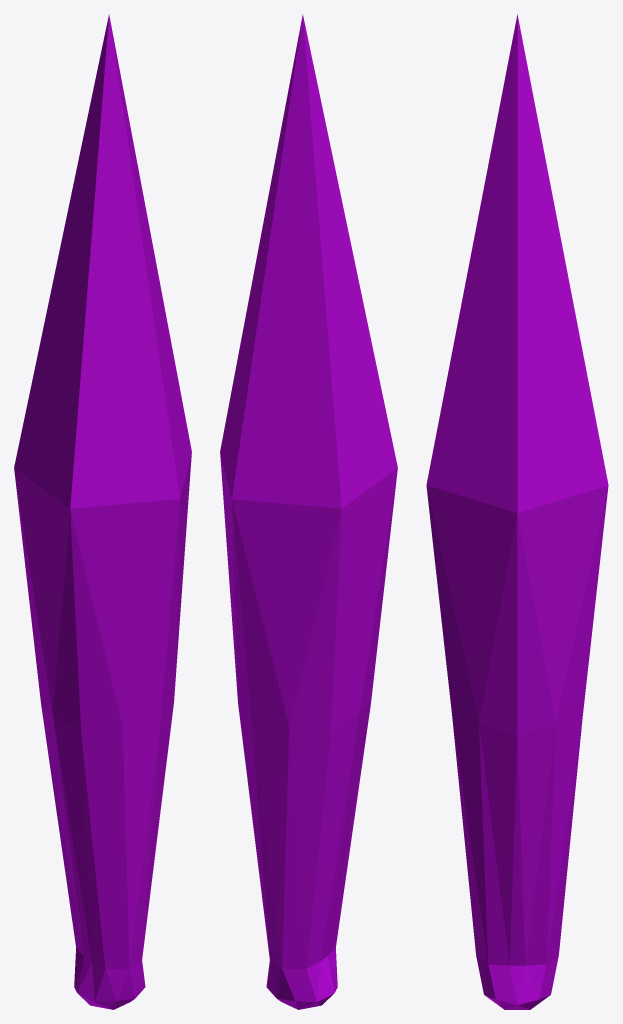
The model's file is SharpMesh3.fbx.
The picture shows the model from 3 angles, left to right: view 1: azimuth 30°, elevation 25°; view 2: azimuth 150°, elevation 25°; view 3: azimuth 270°, elevation 25°; orthographic projection.
Parts seen in each view (by area): view 1: SharpMesh3; view 2: SharpMesh3; view 3: SharpMesh3.
Boxes of the visible parts, x1=… form: SharpMesh3: x1=14, y1=14, x2=191, y2=1009; SharpMesh3: x1=220, y1=14, x2=397, y2=1009; SharpMesh3: x1=426, y1=14, x2=608, y2=1009.
Bounding box in the file's own units: 95.11 × 602 × 100.
